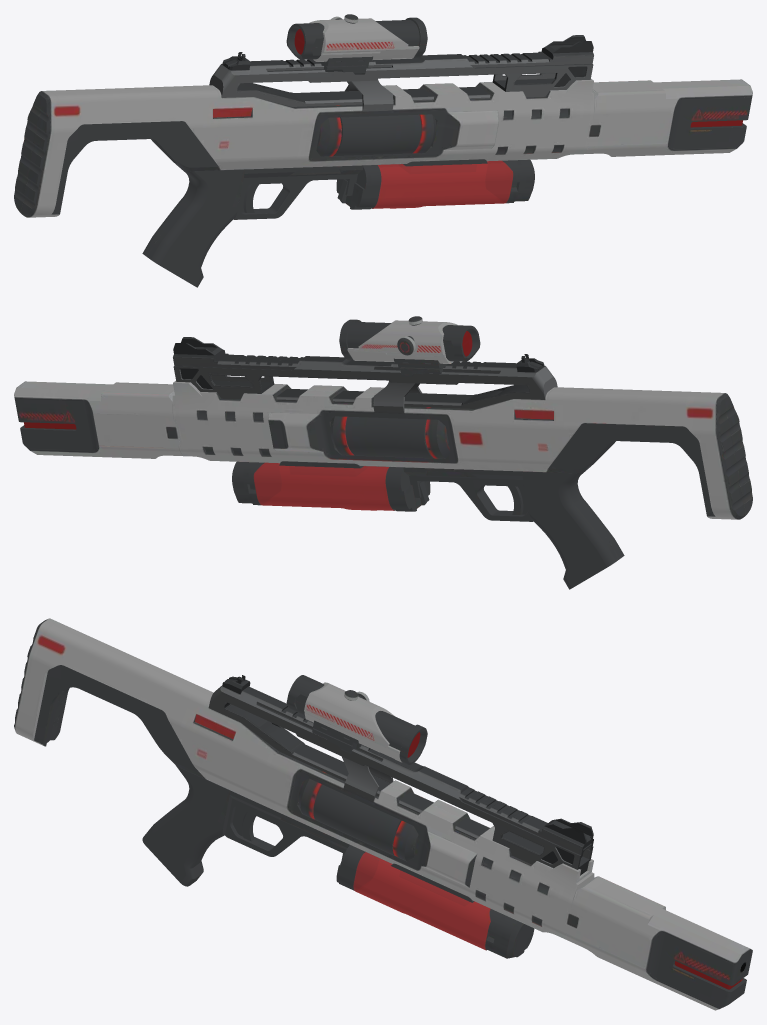
The model's file is viper.glb.
The picture shows the model from 3 angles, top to bottom: view 1: azimuth 30°, elevation 25°; view 2: azimuth 150°, elevation 25°; view 3: azimuth 330°, elevation 25°; orthographic projection.
Parts seen in each view (by area): view 1: Cube.027_low_BODY_0, Cube.029_low_RAIL_0, Slice.008_low_HANDLE_0, Cube.028_low_HANDLE_0, Slice.007_low_CLIP_0, Cylinder.009_low_BODY_0, Cube.036_low_SCOPE_0, Cube.038_low_SCOPE_0, Cube.035_low_CLIP_0, Cube.030_low_HANDLE_0, Cube.037_low_SCOPE_0; view 2: Cube.027_low_BODY_0, Cube.029_low_RAIL_0, Slice.008_low_HANDLE_0, Cube.028_low_HANDLE_0, Slice.007_low_CLIP_0, Cylinder.009_low_BODY_0, Cube.036_low_SCOPE_0, Cube.038_low_SCOPE_0, Cube.035_low_CLIP_0, Cube.030_low_HANDLE_0, Cube.037_low_SCOPE_0; view 3: Cube.027_low_BODY_0, Cube.029_low_RAIL_0, Slice.008_low_HANDLE_0, Slice.007_low_CLIP_0, Cube.028_low_HANDLE_0, Cylinder.009_low_BODY_0, Cube.036_low_SCOPE_0, Cube.038_low_SCOPE_0, Cube.035_low_CLIP_0, Cube.030_low_HANDLE_0.
Boxes of the visible parts, box(x1,y1,x2,y2) form: Cube.027_low_BODY_0: box(14, 79, 594, 217); Cube.029_low_RAIL_0: box(209, 35, 593, 111); Slice.008_low_HANDLE_0: box(584, 79, 752, 156); Cube.028_low_HANDLE_0: box(142, 163, 245, 287); Slice.007_low_CLIP_0: box(371, 159, 513, 208); Cylinder.009_low_BODY_0: box(316, 114, 436, 156); Cube.036_low_SCOPE_0: box(309, 18, 419, 61); Cube.038_low_SCOPE_0: box(286, 17, 427, 59); Cube.035_low_CLIP_0: box(336, 159, 534, 209); Cube.030_low_HANDLE_0: box(233, 174, 357, 219); Cube.037_low_SCOPE_0: box(319, 60, 369, 74); Cube.027_low_BODY_0: box(172, 381, 752, 519); Cube.029_low_RAIL_0: box(173, 337, 557, 413); Slice.008_low_HANDLE_0: box(14, 381, 182, 458); Cube.028_low_HANDLE_0: box(521, 465, 624, 589); Slice.007_low_CLIP_0: box(253, 461, 395, 510); Cylinder.009_low_BODY_0: box(330, 416, 450, 458); Cube.036_low_SCOPE_0: box(347, 320, 457, 363); Cube.038_low_SCOPE_0: box(339, 319, 480, 361); Cube.035_low_CLIP_0: box(232, 461, 430, 511); Cube.030_low_HANDLE_0: box(409, 476, 533, 521); Cube.037_low_SCOPE_0: box(397, 362, 447, 376); Cube.027_low_BODY_0: box(14, 618, 594, 939); Cube.029_low_RAIL_0: box(208, 685, 593, 875); Slice.008_low_HANDLE_0: box(564, 876, 752, 1010); Slice.007_low_CLIP_0: box(353, 852, 490, 950); Cube.028_low_HANDLE_0: box(142, 765, 232, 886); Cylinder.009_low_BODY_0: box(298, 778, 418, 860); Cube.036_low_SCOPE_0: box(304, 682, 401, 762); Cube.038_low_SCOPE_0: box(286, 675, 427, 764); Cube.035_low_CLIP_0: box(336, 845, 534, 958); Cube.030_low_HANDLE_0: box(225, 798, 346, 863).
Bounding box in the file's own units: 0.8 × 0.2454 × 0.0576.
5 materials, 5 textured.
